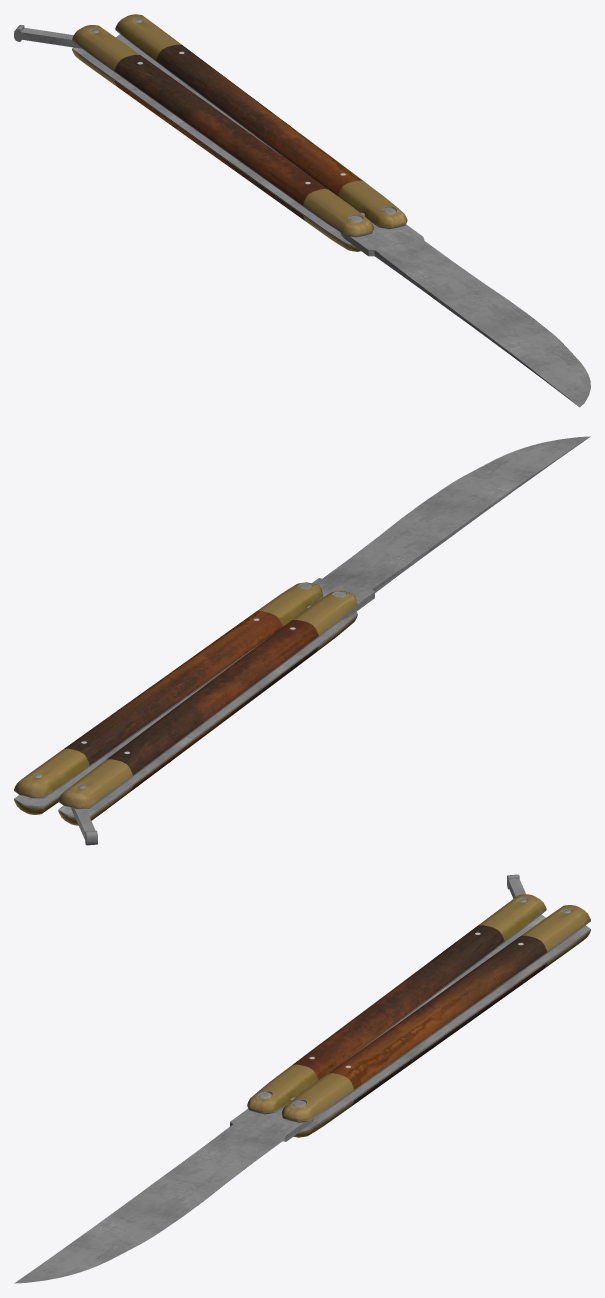
File: butterfly.glb
The picture shows the model from 3 angles, top to bottom: view 1: azimuth 30°, elevation 25°; view 2: azimuth 150°, elevation 25°; view 3: azimuth 330°, elevation 25°; orthographic projection. The views are drawn at different scales.
Visible parts, largest first — view 1: balisong_open_balisong_0; view 2: balisong_open_balisong_0; view 3: balisong_open_balisong_0.
Part boxes in pixels (box(x1,y1,x2,y2)): balisong_open_balisong_0: box(14, 14, 590, 407); balisong_open_balisong_0: box(14, 436, 590, 845); balisong_open_balisong_0: box(14, 874, 590, 1283).
Size of the model in its own units: 0.0304 by 0.00887 by 0.2594.
Materials: 1 (1 with a texture image).
